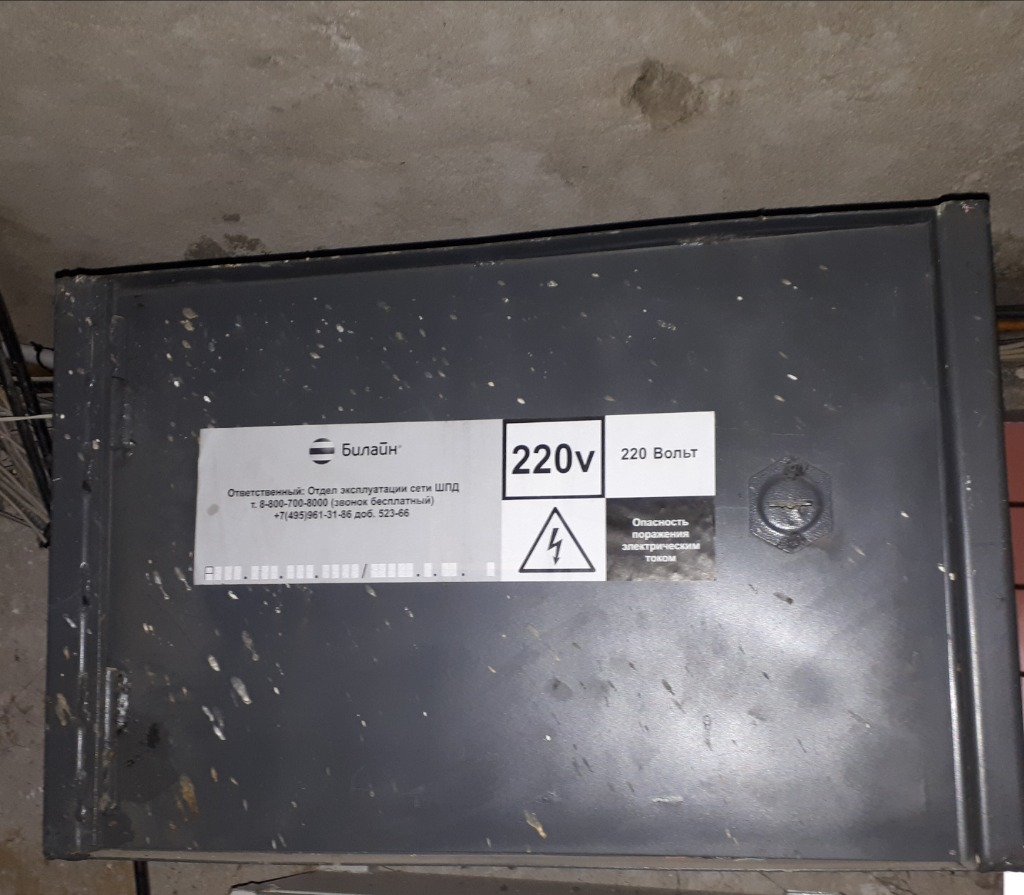e2-6u: (35, 195, 1020, 870)
